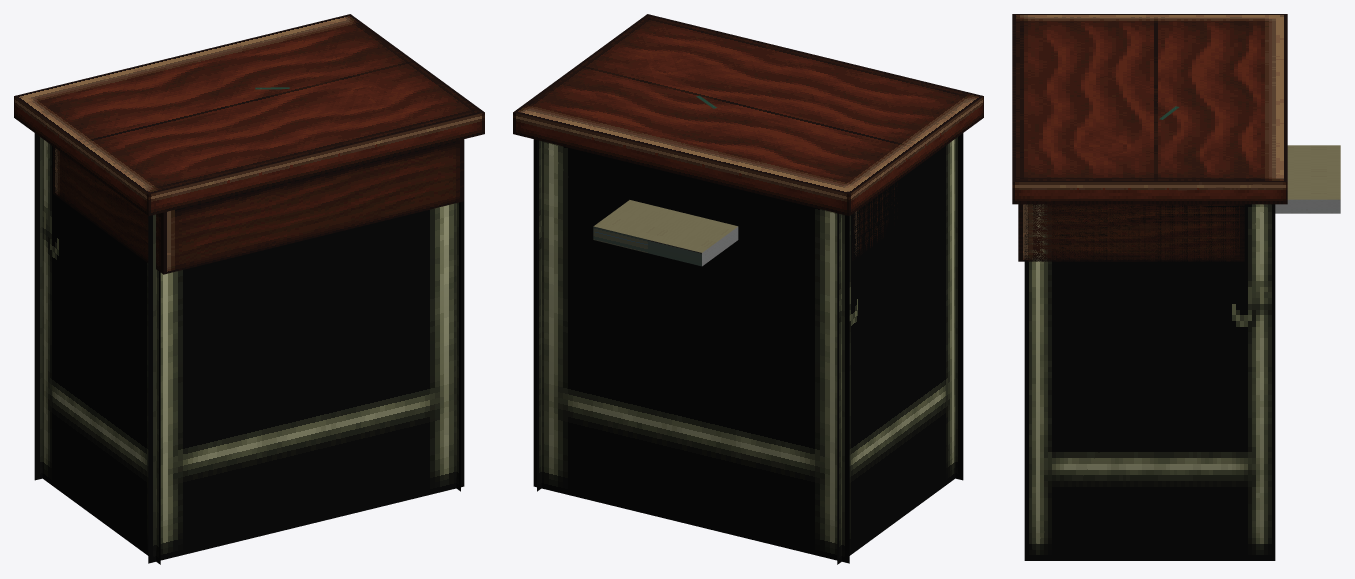
File: prop_desk-5.glb
3 renders of one model, left to right at view 1: azimuth 30°, elevation 25°; view 2: azimuth 150°, elevation 25°; view 3: azimuth 270°, elevation 25°, orthographic. The views are drawn at different scales.
Parts seen in each view (by area): view 1: prop_desk-5; view 2: prop_desk-5; view 3: prop_desk-5.
Boxes of the visible parts, left/top/right/bottom form: prop_desk-5: left=14, top=14, right=484, bottom=564; prop_desk-5: left=513, top=14, right=983, bottom=564; prop_desk-5: left=1012, top=14, right=1340, bottom=560.
Size of the model in its own units: 0.6175 by 0.6669 by 0.5098.
Materials: 6 (6 with a texture image).
